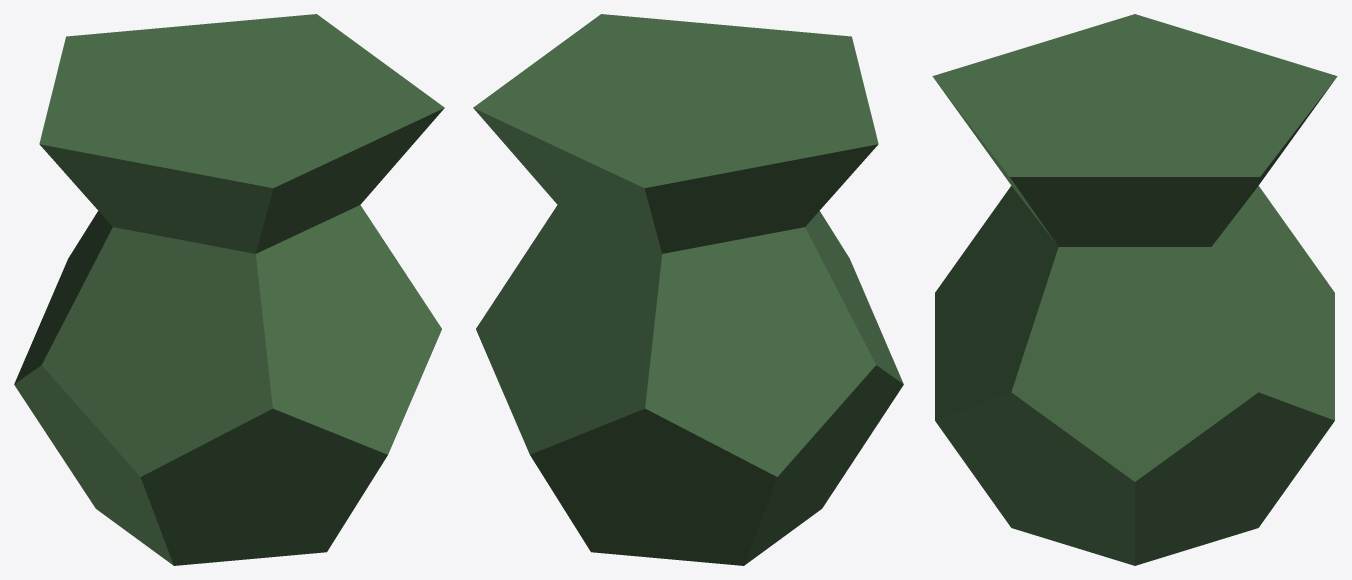
The model's file is Core_and_Tile.fbx.
3 views of the same model, side by side, from view 1: azimuth 30°, elevation 25°; view 2: azimuth 150°, elevation 25°; view 3: azimuth 270°, elevation 25° (orthographic). The views are drawn at different scales.
Parts seen in each view (by area): view 1: Dodec_full.027, Dodec_full.009; view 2: Dodec_full.027, Dodec_full.009; view 3: Dodec_full.027, Dodec_full.009.
Part boxes in pixels (bbox=[...]): Dodec_full.027: bbox=[14, 205, 441, 565]; Dodec_full.009: bbox=[39, 14, 444, 253]; Dodec_full.027: bbox=[476, 205, 903, 565]; Dodec_full.009: bbox=[473, 14, 878, 253]; Dodec_full.027: bbox=[935, 186, 1334, 565]; Dodec_full.009: bbox=[932, 14, 1337, 246].
Bounding box in the file's own units: 1.21 × 1.28 × 1.15.
